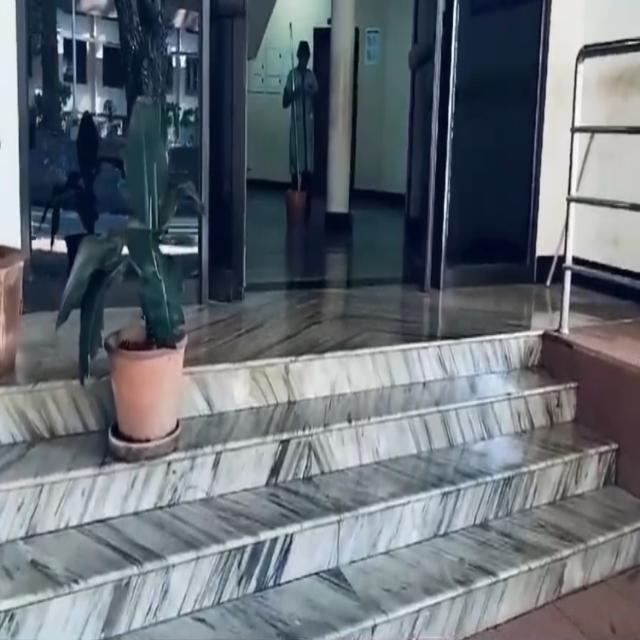person ahead at: (280, 31, 320, 230)
plant ahead at: (72, 106, 193, 459)
stairs ahead at: (1, 335, 639, 640)
